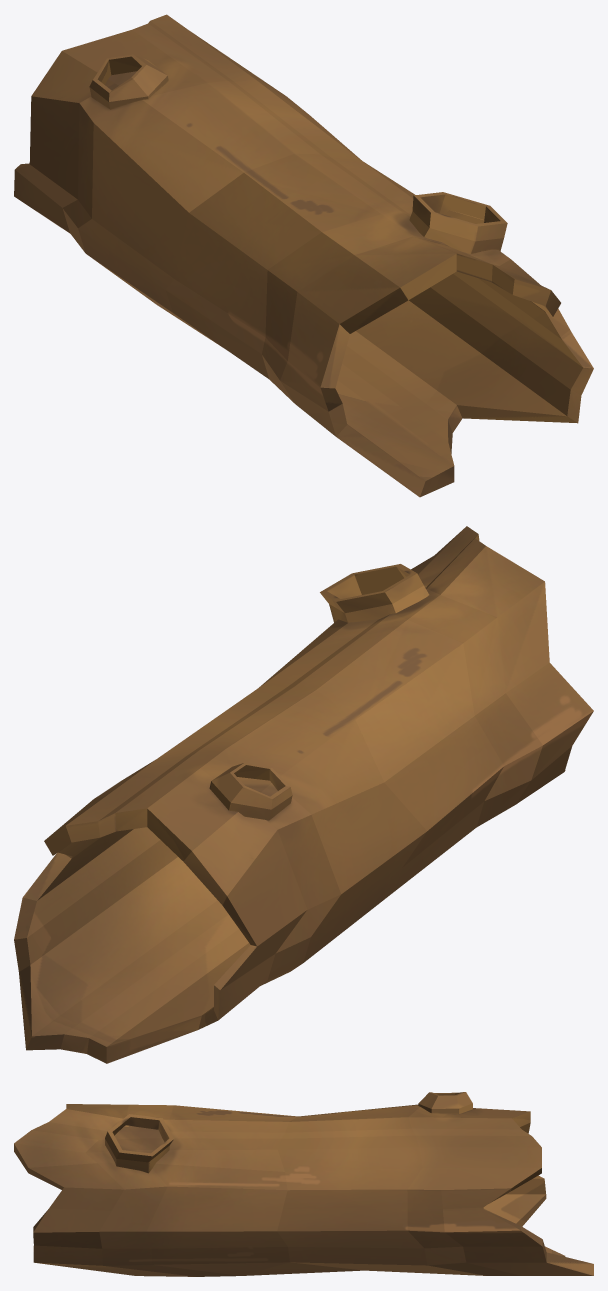
The model's file is batang kayu3.fbx.
3 renders of one model, top to bottom at view 1: azimuth 30°, elevation 25°; view 2: azimuth 150°, elevation 25°; view 3: azimuth 270°, elevation 25°, orthographic. The views are drawn at different scales.
Parts seen in each view (by area): view 1: btng ky1; view 2: btng ky1; view 3: btng ky1.
Boxes of the visible parts, bbox=[...] form: btng ky1: bbox=[14, 14, 593, 497]; btng ky1: bbox=[14, 526, 593, 1063]; btng ky1: bbox=[14, 1092, 593, 1276].
Size of the model in its own units: 49.13 by 45.88 by 151.
